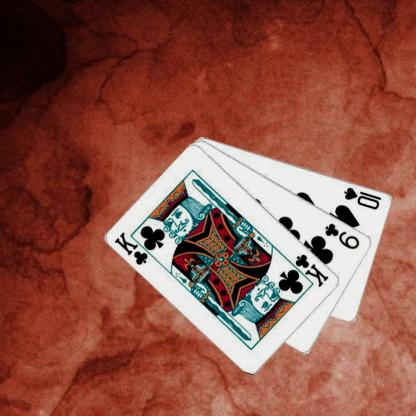10S: (341, 184, 383, 211)
9C: (322, 221, 361, 250)
KC: (112, 230, 158, 266), (285, 252, 330, 288)
